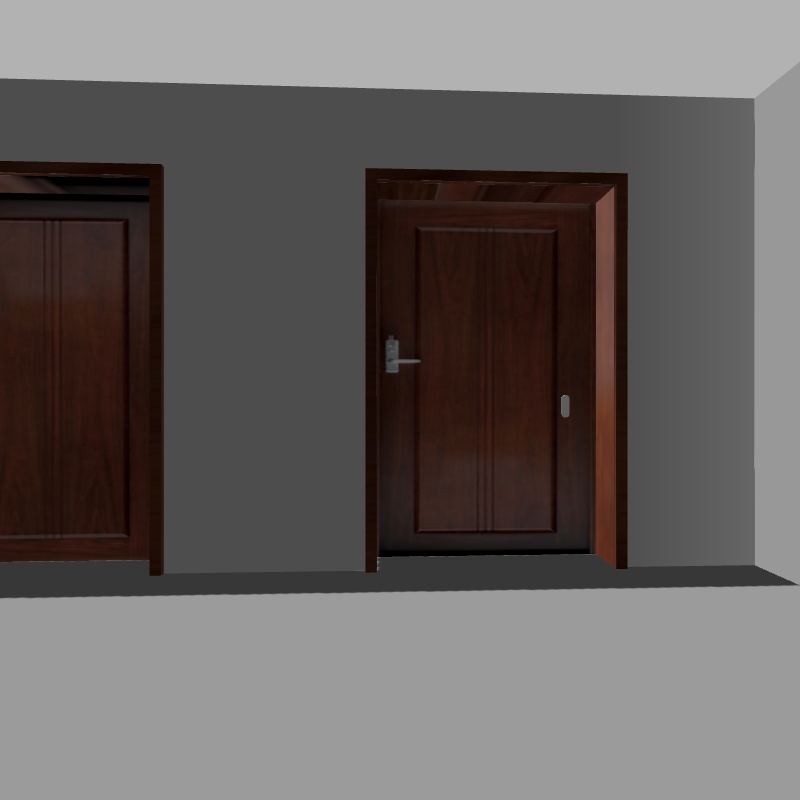handle: (379, 333, 421, 378)
